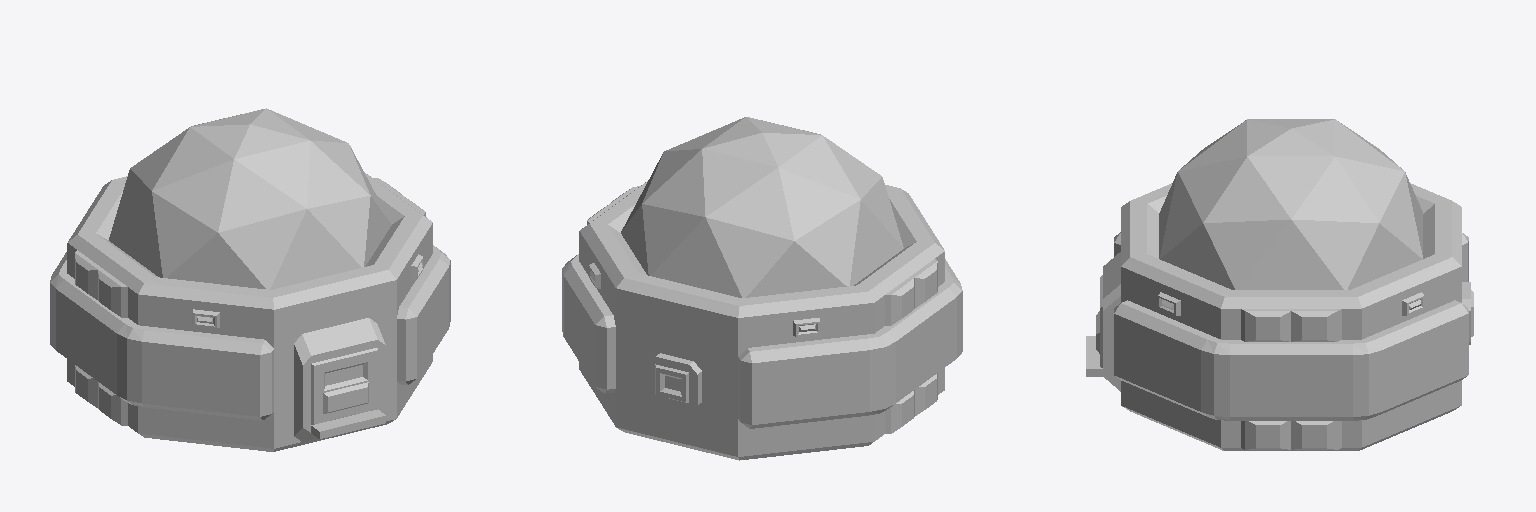
The model's file is basemodule_E.obj.
3 views of the same model, side by side, from view 1: azimuth 30°, elevation 25°; view 2: azimuth 150°, elevation 25°; view 3: azimuth 270°, elevation 25° (orthographic).
Parts seen in each view (by area): view 1: basemodule_E_Cylinder.2717; view 2: basemodule_E_Cylinder.2717; view 3: basemodule_E_Cylinder.2717.
Boxes of the visible parts, <box> form: basemodule_E_Cylinder.2717: <box>50,108,450,451</box>; basemodule_E_Cylinder.2717: <box>562,117,962,460</box>; basemodule_E_Cylinder.2717: <box>1086,119,1473,450</box>.
Size of the model in its own units: 2.22 by 1.65 by 2.28.